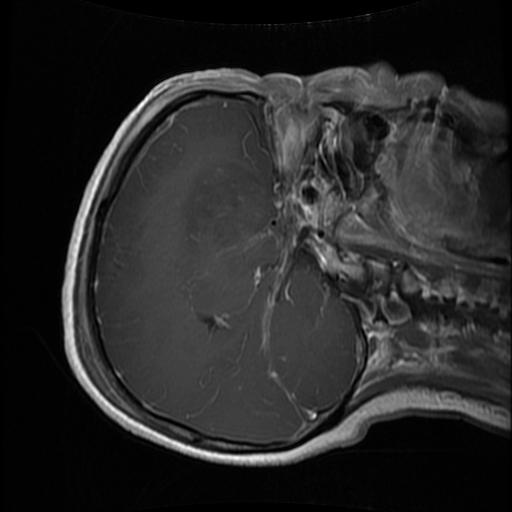glioma: (180, 162, 275, 252)
